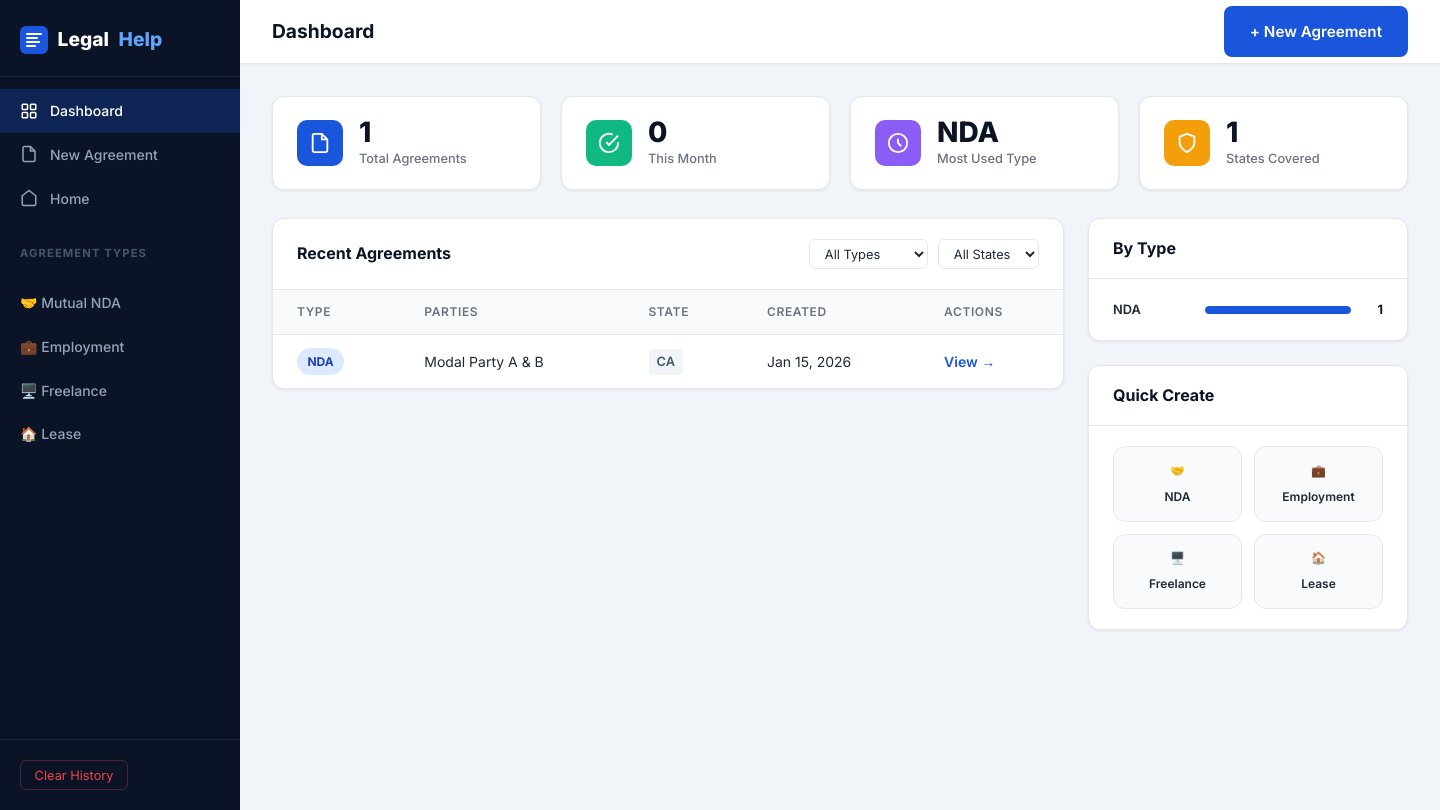
Test case: DashboardClient — modal › opens the modal when "View →" is clicked
The image size is (1440, 810).
What coordinates should you click on to do the following:
click the button "View →"
I would click on:
 (970, 362)
Its box is [944,353,995,370].
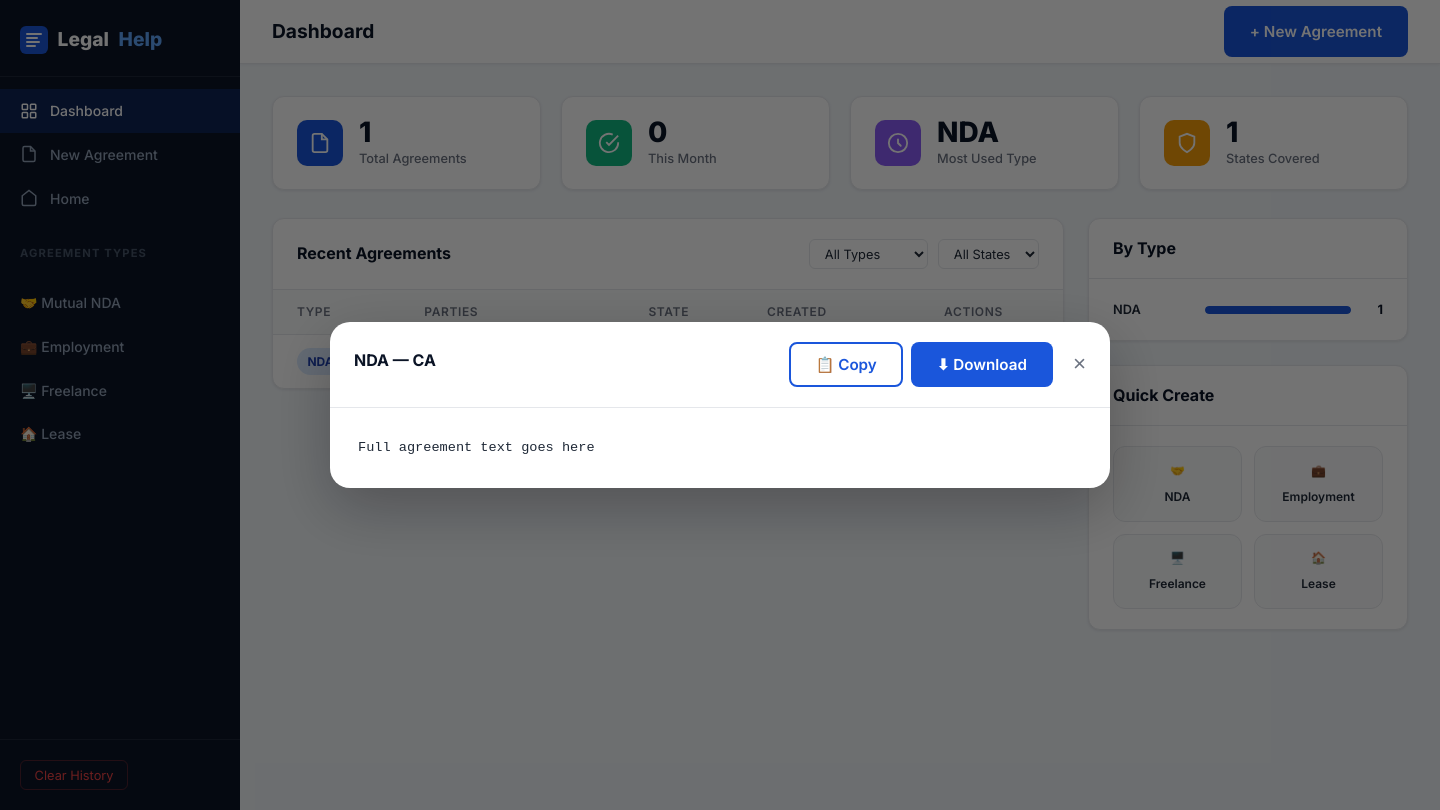
Expected: the text "Full agreement text goes here" is shown, [358,440,595,455]
